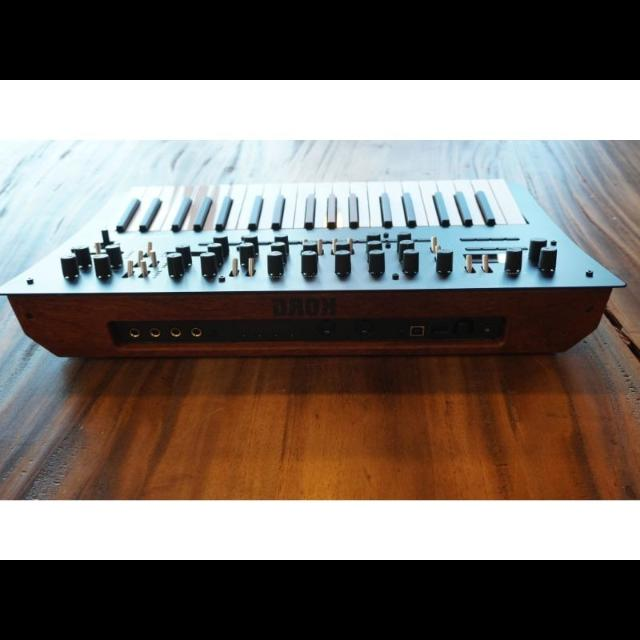Electronic-Keyboard: (10, 177, 630, 371)
